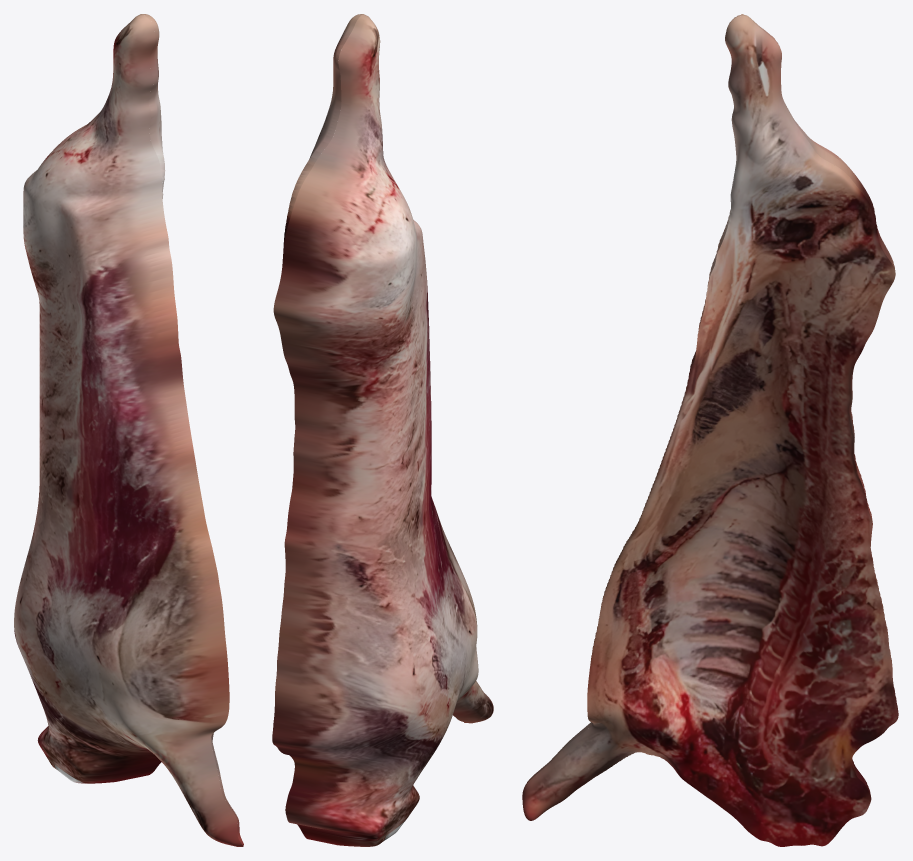
Rendered from demi_carcasse_boeuf_v7.glb.
3 views of the same model, side by side, from view 1: azimuth 30°, elevation 25°; view 2: azimuth 150°, elevation 25°; view 3: azimuth 270°, elevation 25° (orthographic). The views are drawn at different scales.
Parts seen in each view (by area): view 1: face_exterieure, face_de_fente; view 2: face_exterieure, face_de_fente; view 3: face_de_fente, face_exterieure.
Part boxes in pixels (<box>): face_exterieure: <box>14,14,243,846</box>; face_de_fente: <box>142,14,243,845</box>; face_exterieure: <box>272,14,493,846</box>; face_de_fente: <box>283,14,464,722</box>; face_de_fente: <box>522,16,898,846</box>; face_exterieure: <box>524,14,898,794</box>.
Bounding box in the file's own units: 0.3987 × 2.5 × 1.03.
2 materials, 2 textured.
